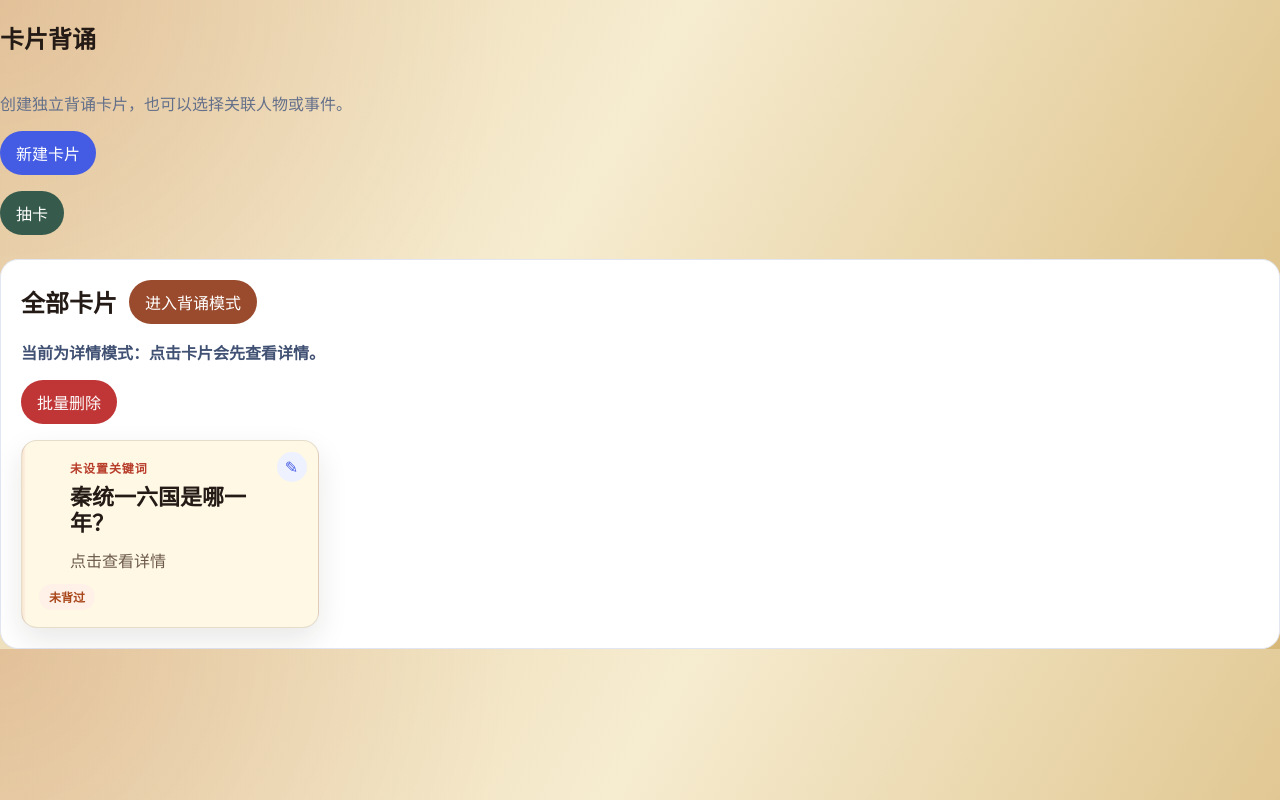
FlashcardPage › shows related people and events during card study
Click the button with test id "toggle-study-mode". click: (193,302)
box: left=129, top=280, right=257, bottom=324
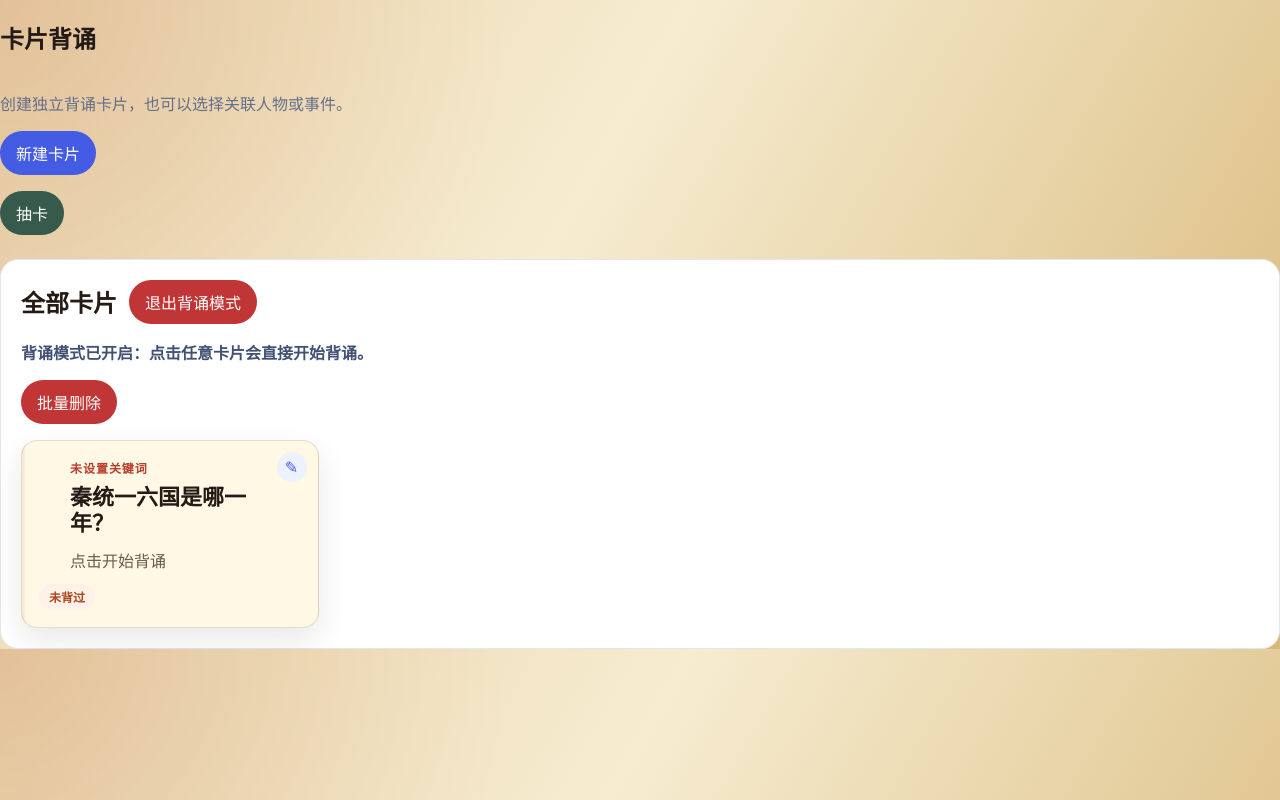
Click the button with class "card-preview-button". click: (170,534)
box: left=21, top=440, right=318, bottom=628
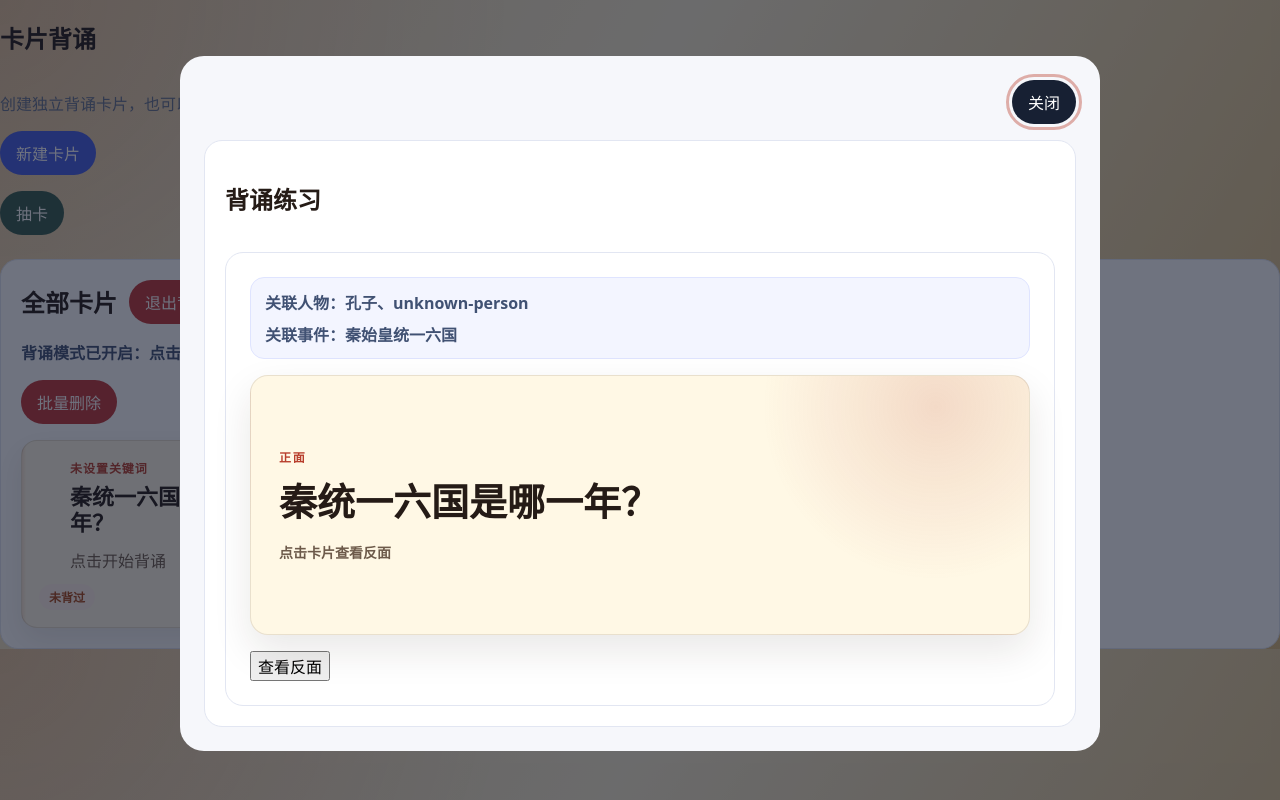
Expected: the dialog named "背诵练习" shows "关联人物：孔子、unknown-person", left=265, top=292, right=529, bottom=314
Expected: the dialog named "背诵练习" shows "关联事件：秦始皇统一六国", left=265, top=324, right=457, bottom=346
